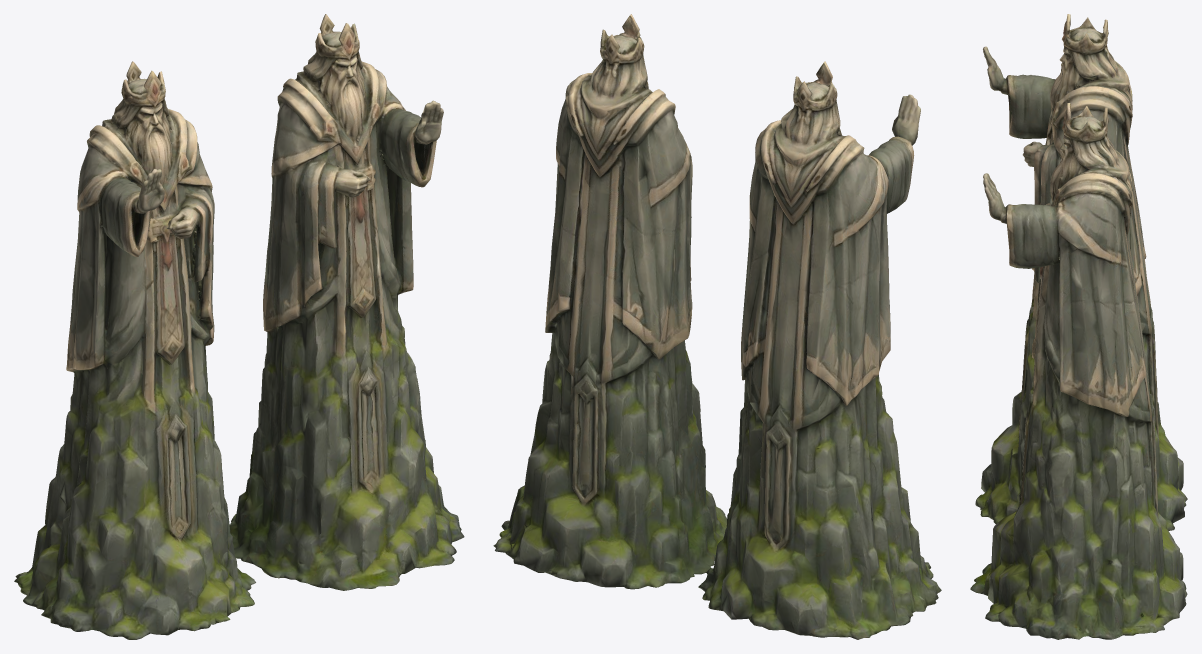
File: argonath.glb
3 views of the same model, side by side, from view 1: azimuth 30°, elevation 25°; view 2: azimuth 150°, elevation 25°; view 3: azimuth 270°, elevation 25° (orthographic). The views are drawn at different scales.
Size of the model in its own units: 1.56 by 1.91 by 0.7692.
1 material, 1 textured.
